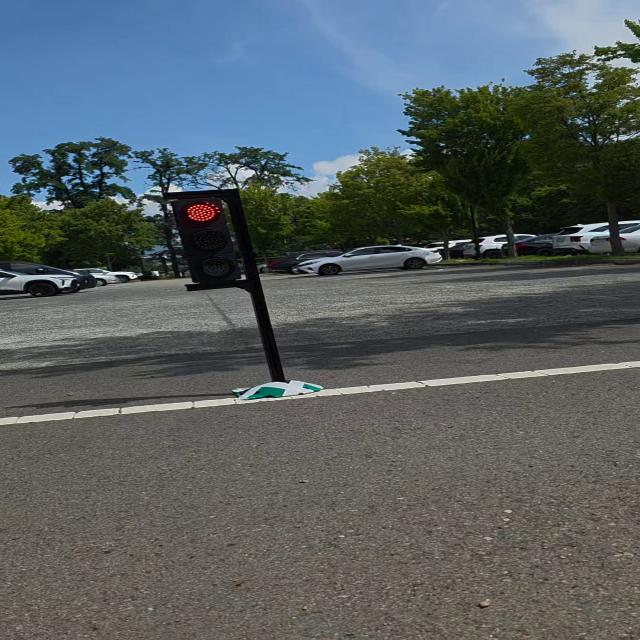red: (172, 192, 256, 286)
